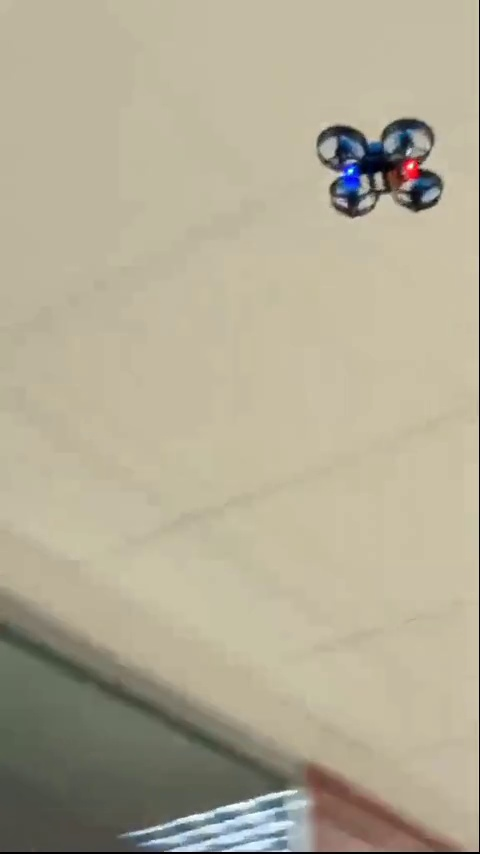drone: (315, 117, 445, 219)
